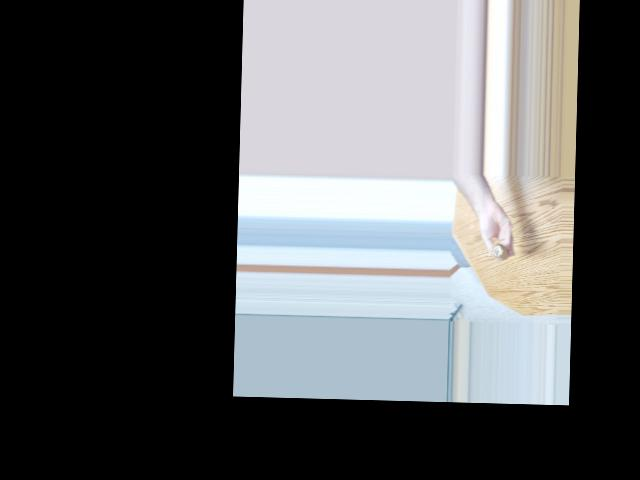sweet_potato: (488, 243, 504, 263)
